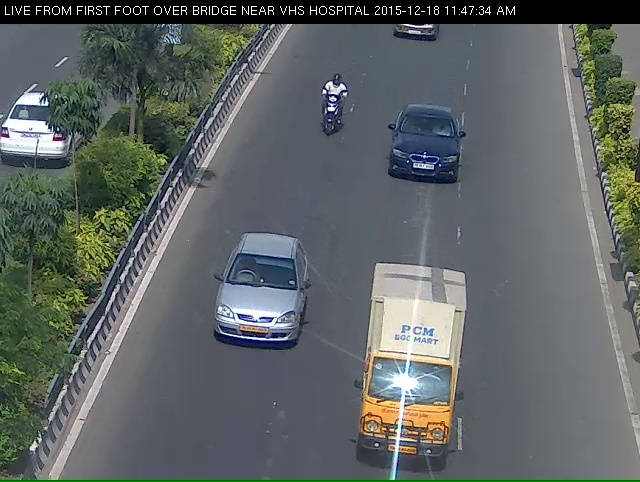Car: (355, 264, 469, 482), (190, 231, 314, 377), (382, 113, 467, 184)
Person: (316, 83, 345, 147)
